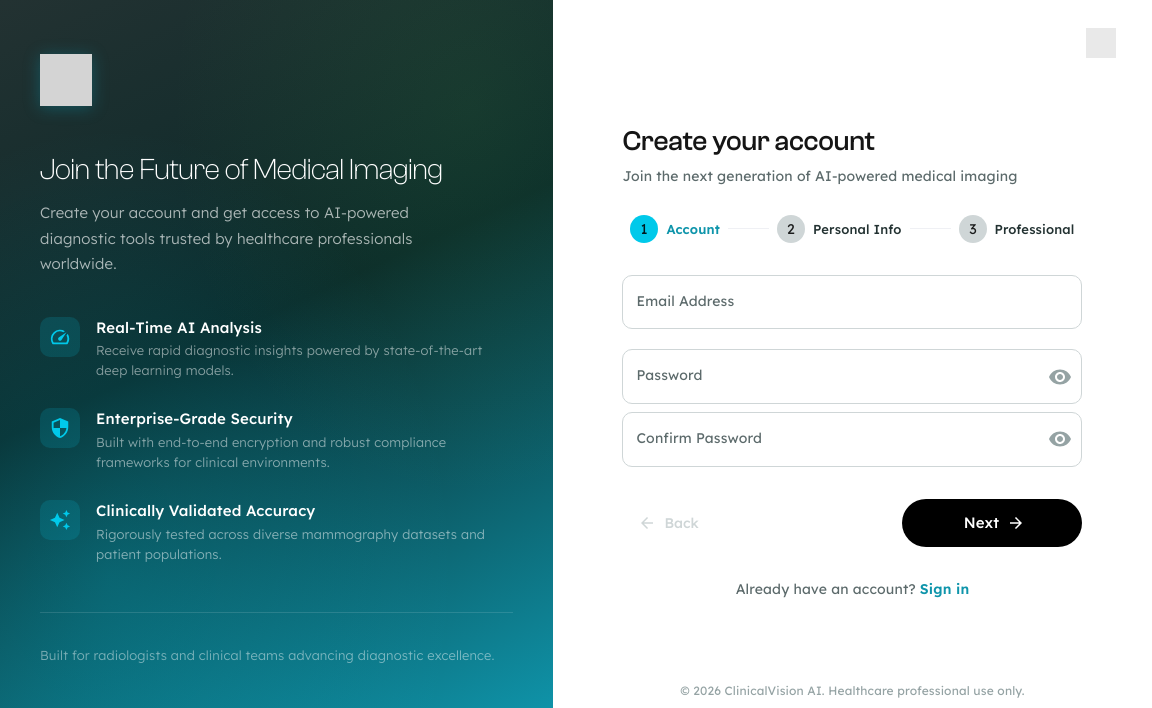
Test: RegisterPage — Password Hints Visual Feedback › blocks step advance when password missing lowercase letter
The width and height of the screenshot is (1152, 708).
Step 1. Type "test@test.com" into the field labelled "Email Address" → [852, 302], box [622, 275, 1082, 329]
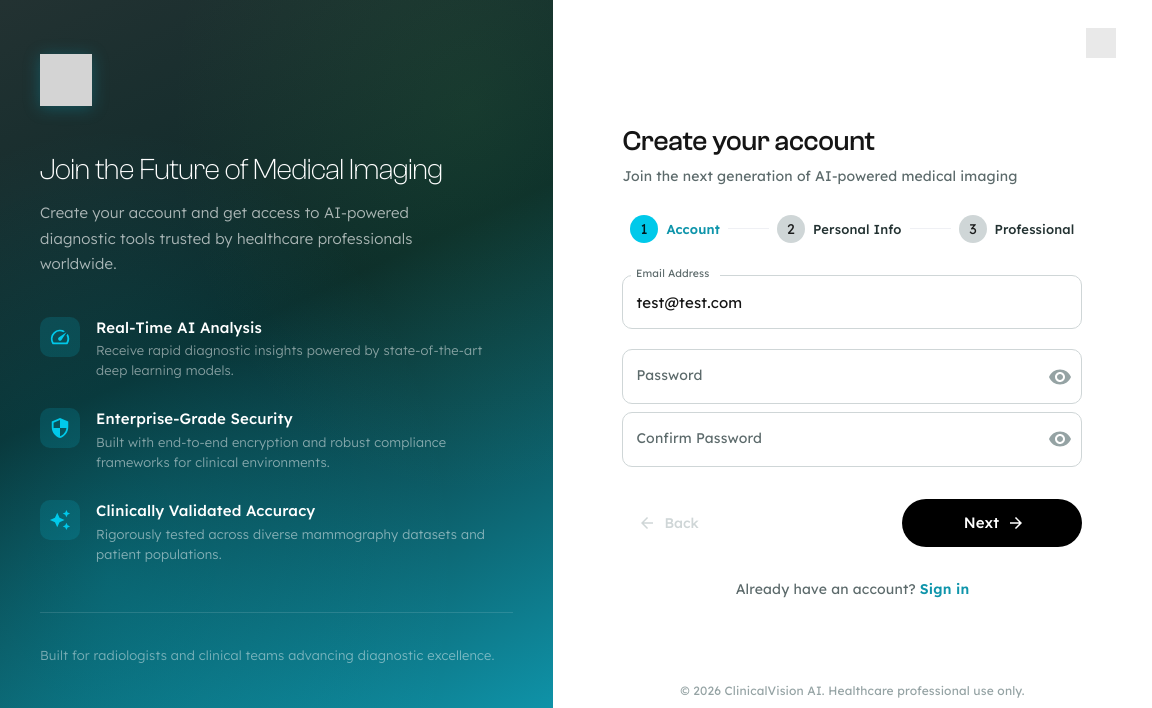
Step 2. Type "ABCDEFG1!" into the password field labelled "Password" → [828, 377], box [622, 349, 1032, 404]
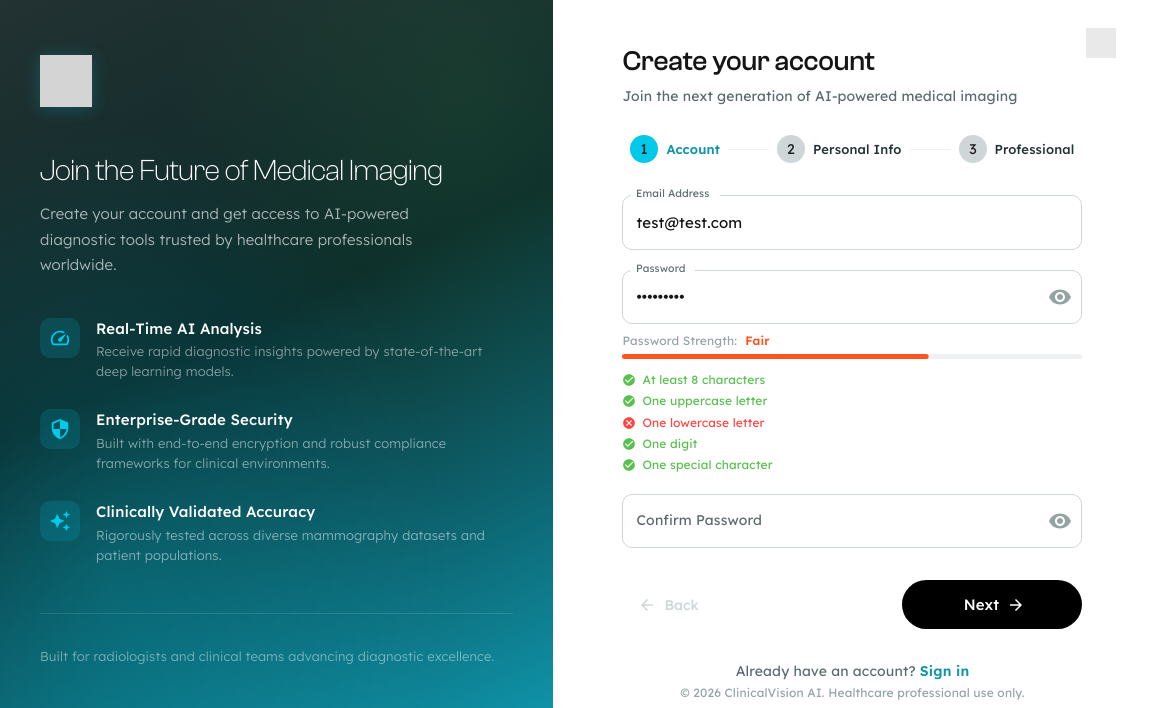
Step 3. Type "ABCDEFG1!" into the password field labelled "Confirm Password" → [828, 521], box [622, 494, 1032, 548]
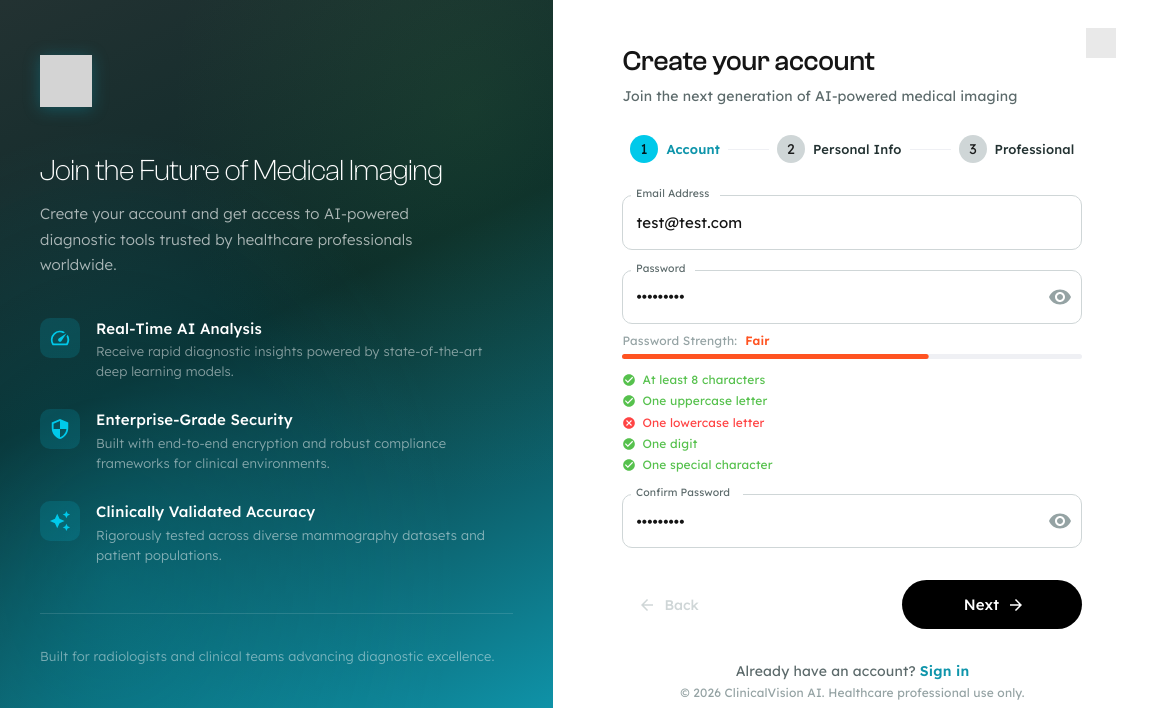
Step 4. Click the button "Next" → [992, 605], box [902, 580, 1082, 629]
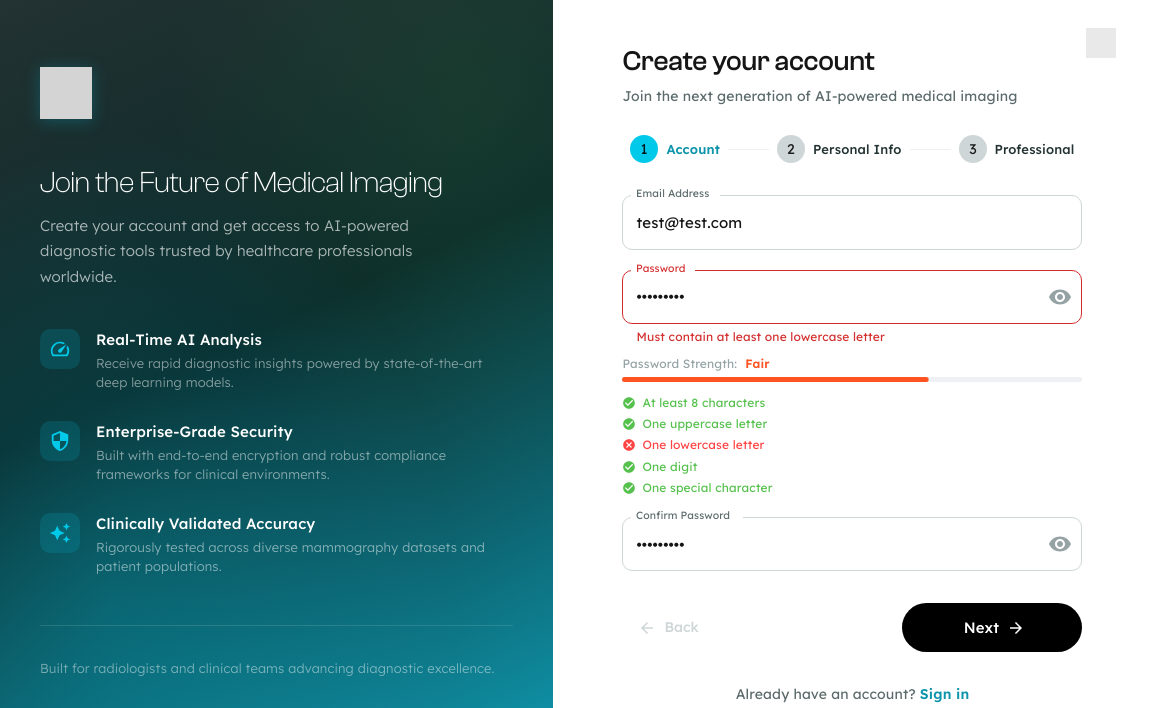
Expected: the text "Must contain at least one lowercase letter" is shown, [636, 329, 885, 344]
